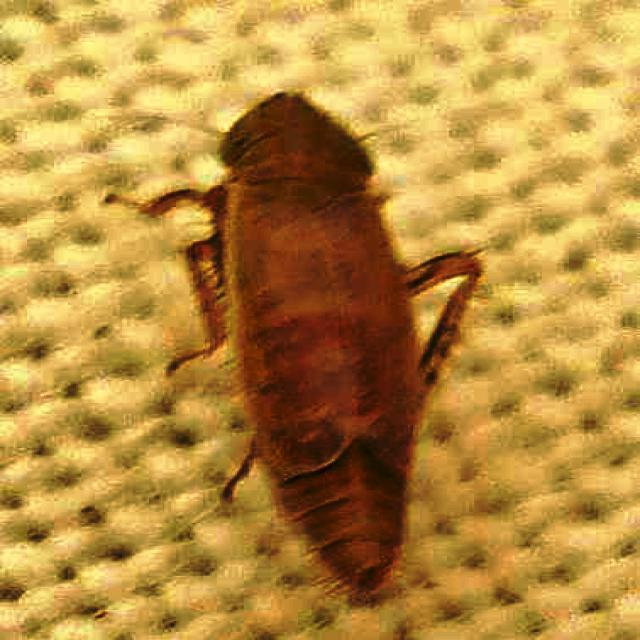green-leafhopper: (195, 92, 474, 594)
